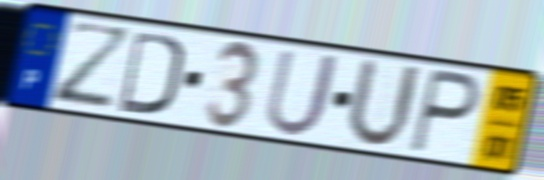3: (202, 37, 264, 133)
D: (116, 27, 186, 119)
P: (406, 65, 484, 158)
U: (342, 54, 424, 152), (262, 46, 344, 139)
Z: (49, 17, 137, 111)
